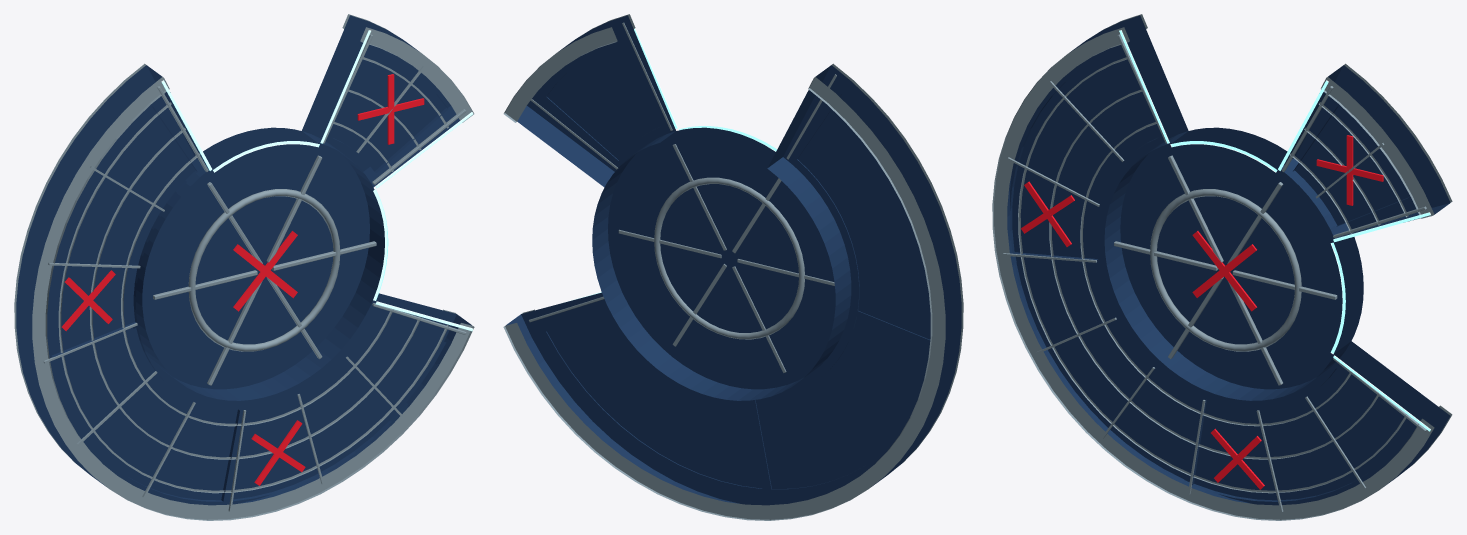
File: foundry-panel-fun5-high.glb
The picture shows the model from 3 angles, left to right: view 1: azimuth 30°, elevation 25°; view 2: azimuth 150°, elevation 25°; view 3: azimuth 330°, elevation 25°; orthographic projection.
Visible parts, largest first — view 1: RENDER_PANEL_SHELL, RENDER_PANEL_FRAME, RENDER_PANEL_HAZARD, RENDER_PANEL_SIGNAL; view 2: RENDER_PANEL_SHELL, RENDER_PANEL_FRAME, RENDER_PANEL_SIGNAL; view 3: RENDER_PANEL_SHELL, RENDER_PANEL_FRAME, RENDER_PANEL_HAZARD, RENDER_PANEL_SIGNAL.
Boxes of the visible parts, bbox=[...] form: RENDER_PANEL_SHELL: bbox=[16, 15, 471, 505]; RENDER_PANEL_FRAME: bbox=[14, 14, 474, 520]; RENDER_PANEL_HAZARD: bbox=[61, 74, 424, 485]; RENDER_PANEL_SIGNAL: bbox=[161, 30, 473, 331]; RENDER_PANEL_SHELL: bbox=[506, 15, 961, 505]; RENDER_PANEL_FRAME: bbox=[503, 14, 963, 520]; RENDER_PANEL_SIGNAL: bbox=[565, 28, 776, 302]; RENDER_PANEL_SHELL: bbox=[1007, 15, 1450, 505]; RENDER_PANEL_FRAME: bbox=[992, 14, 1452, 520]; RENDER_PANEL_HAZARD: bbox=[1021, 135, 1383, 489]; RENDER_PANEL_SIGNAL: bbox=[1119, 30, 1430, 431].
Size of what is drawn, in the model's own units: 38.91 by 38.91 by 3.09.
